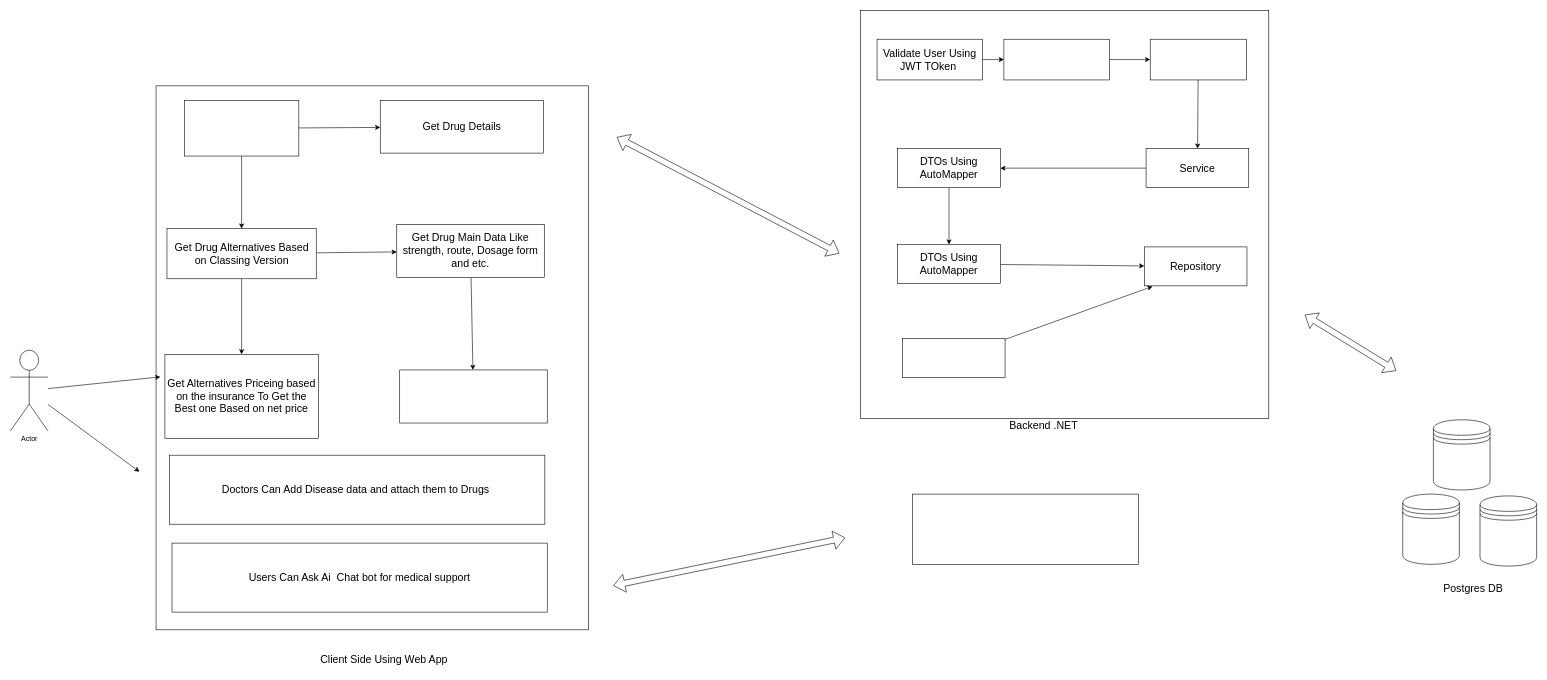
This 1547x680 diagram has some shape labels left out. The shapes that lost their labels are listed below. From the top down, each one's centre as x and y in pixels, then its label:
(x=1056, y=59): Custom Auth with policy Based
(x=1198, y=59): Controller
(x=241, y=128): Search For Drug
(x=953, y=357): Model
(x=473, y=396): Get the authority for medical Drugs
(x=1025, y=529): Ai Chat Bot
